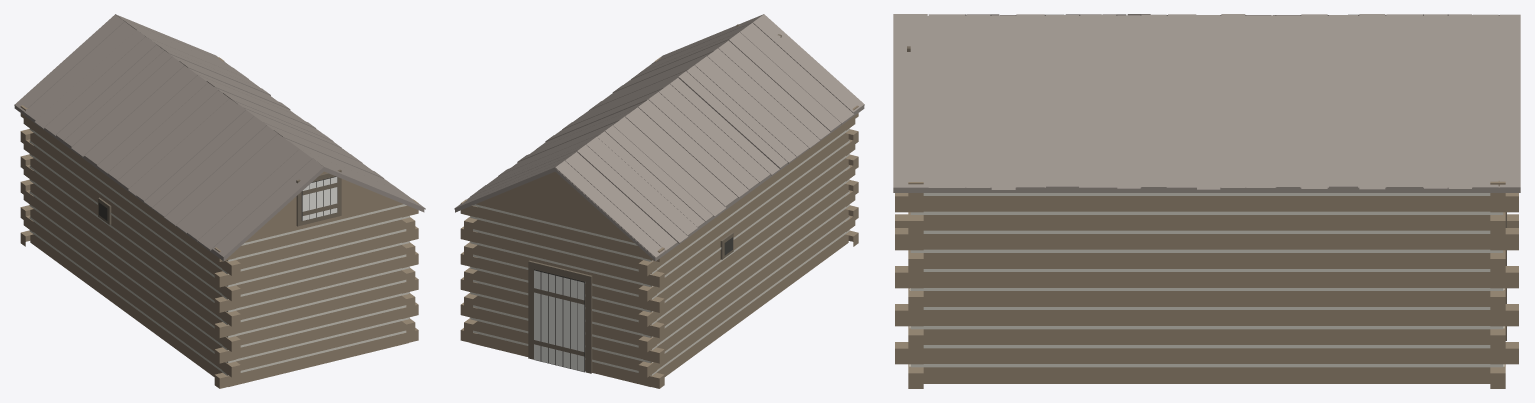
File: recon_1835_blk_randolph_franklin_a1_07__inferred_1835.glb
3 views of the same model, side by side, from view 1: azimuth 30°, elevation 25°; view 2: azimuth 150°, elevation 25°; view 3: azimuth 270°, elevation 25° (orthographic). The views are drawn at different scales.
Visible parts, largest first — view 1: recon_1835_blk_randolph_franklin_a1_07__inferred_1835; view 2: recon_1835_blk_randolph_franklin_a1_07__inferred_1835; view 3: recon_1835_blk_randolph_franklin_a1_07__inferred_1835.
Part boxes in pixels (x1,y1,x2,y2): recon_1835_blk_randolph_franklin_a1_07__inferred_1835: (14, 14, 425, 388); recon_1835_blk_randolph_franklin_a1_07__inferred_1835: (454, 14, 864, 388); recon_1835_blk_randolph_franklin_a1_07__inferred_1835: (893, 14, 1520, 388).
Size of the model in its own units: 5.43 by 5.14 by 9.6.
